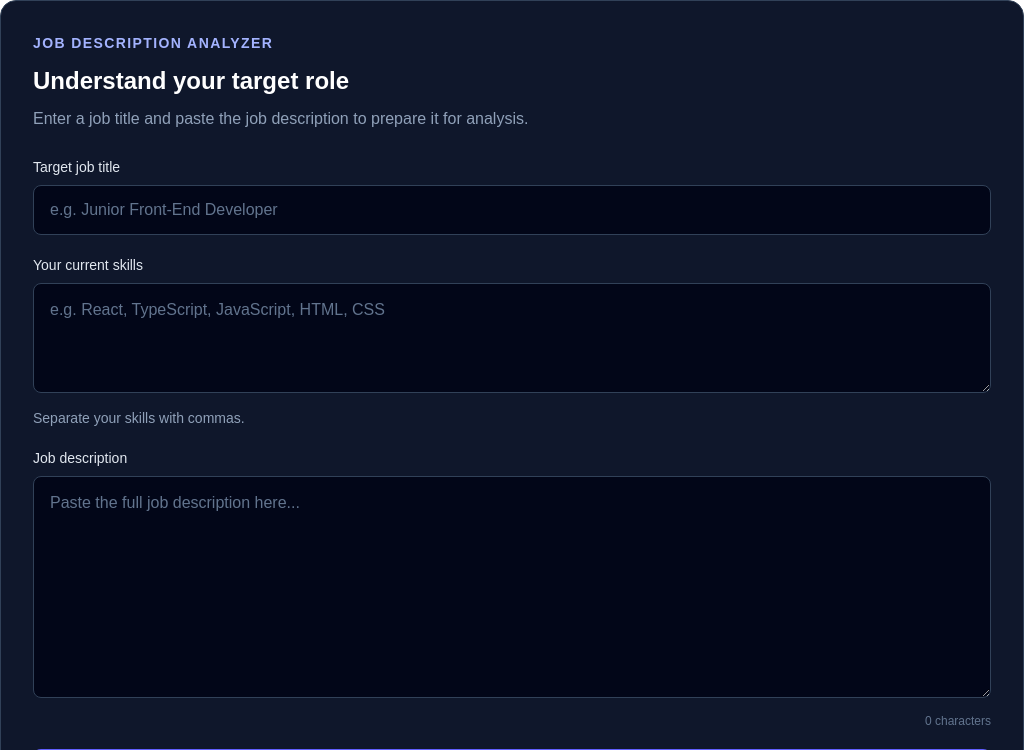
Test: JobDescriptionAnalyzer › shows an error when the description is too short
Type "Junior Front-End Developer" into the field labelled "Target job title".
click(512, 210); type("Junior Front-End Developer")  # box [33,185,991,235]
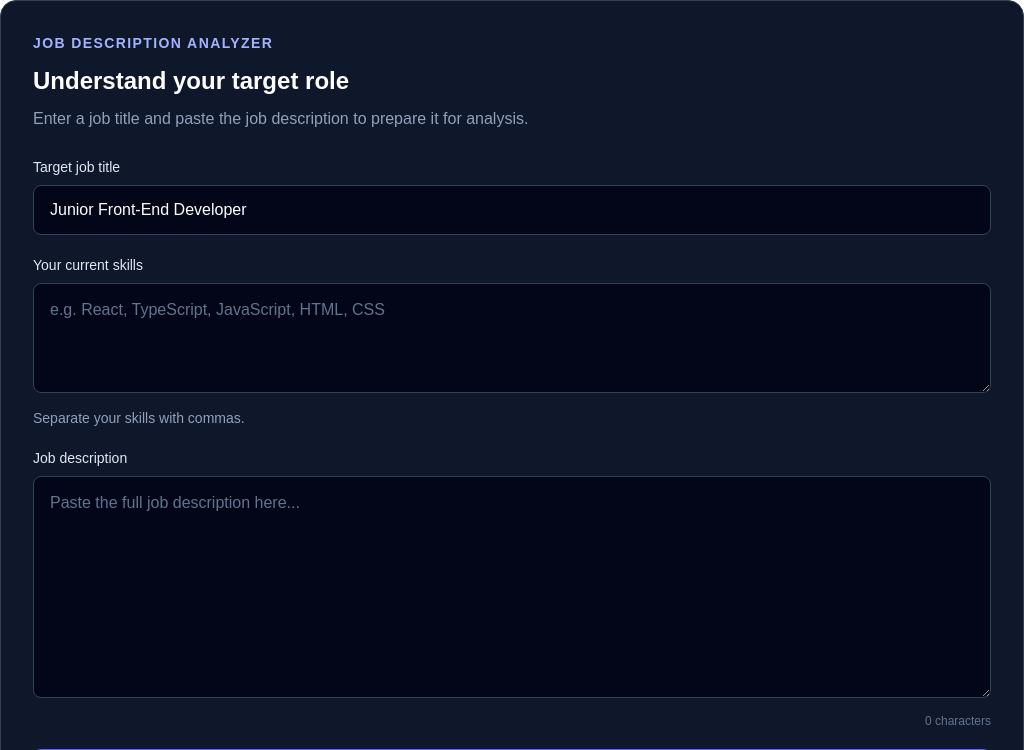
Type "React and TypeScript experience required." into the text box labelled "Job description".
click(512, 587); type("React and TypeScript experience required.")  # box [33,476,991,698]
(page scrolled)
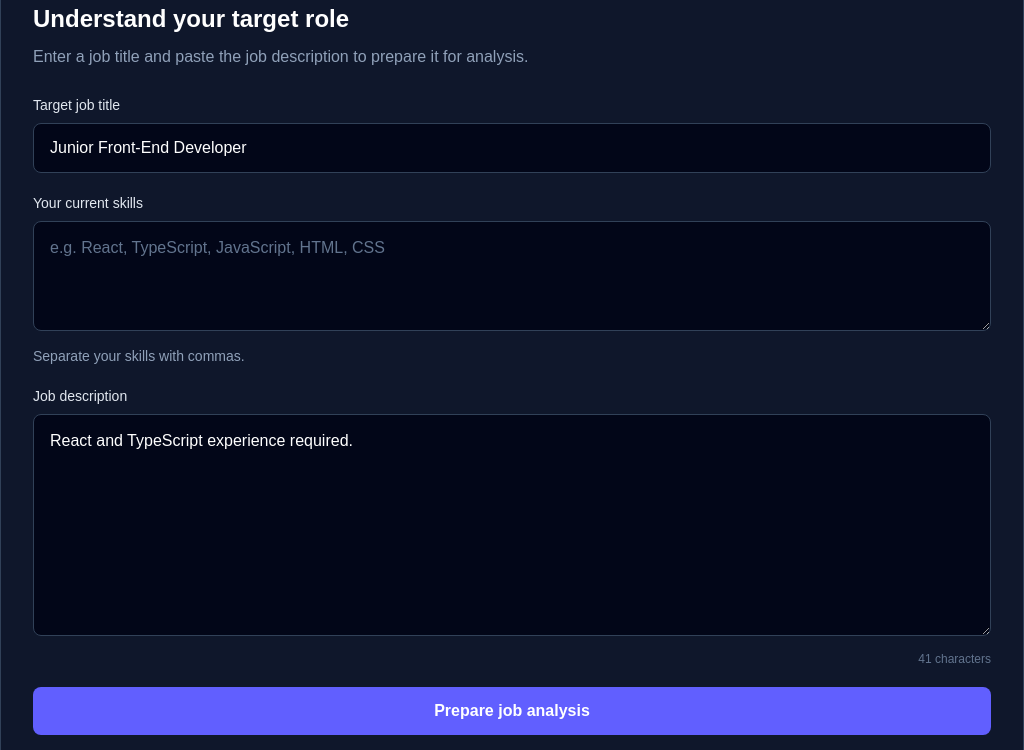
Click the button "Prepare job analysis".
click(512, 711)  # box [33,687,991,735]
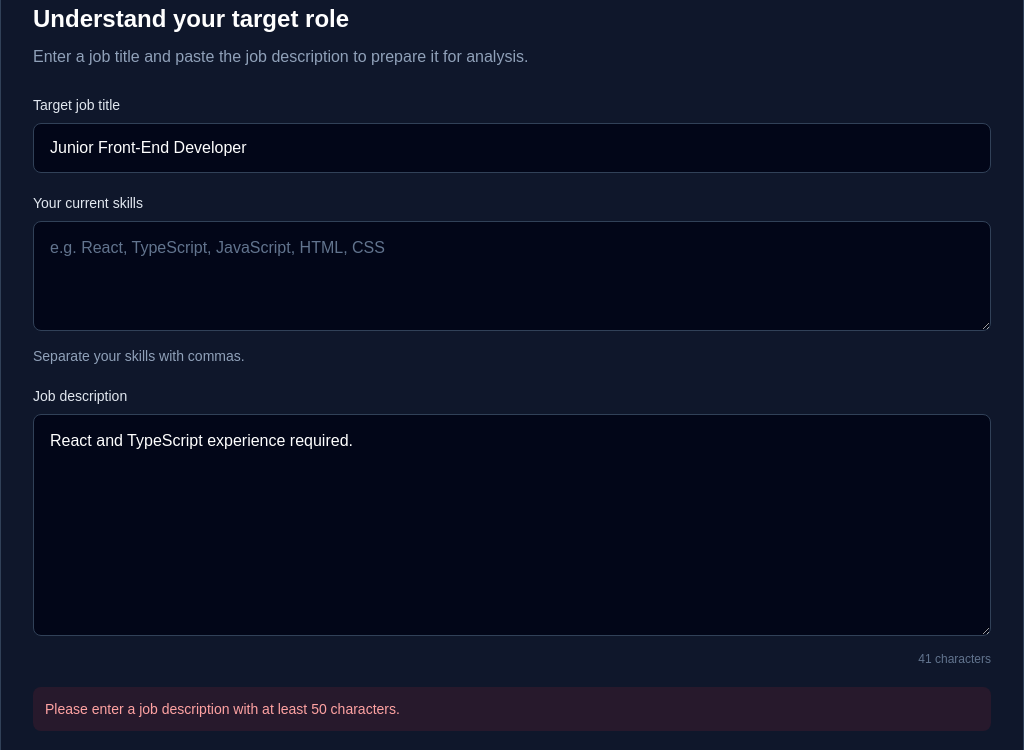
Result: the message reads "Please enter a job description with at least 50 characters." at [45,701,400,717]
